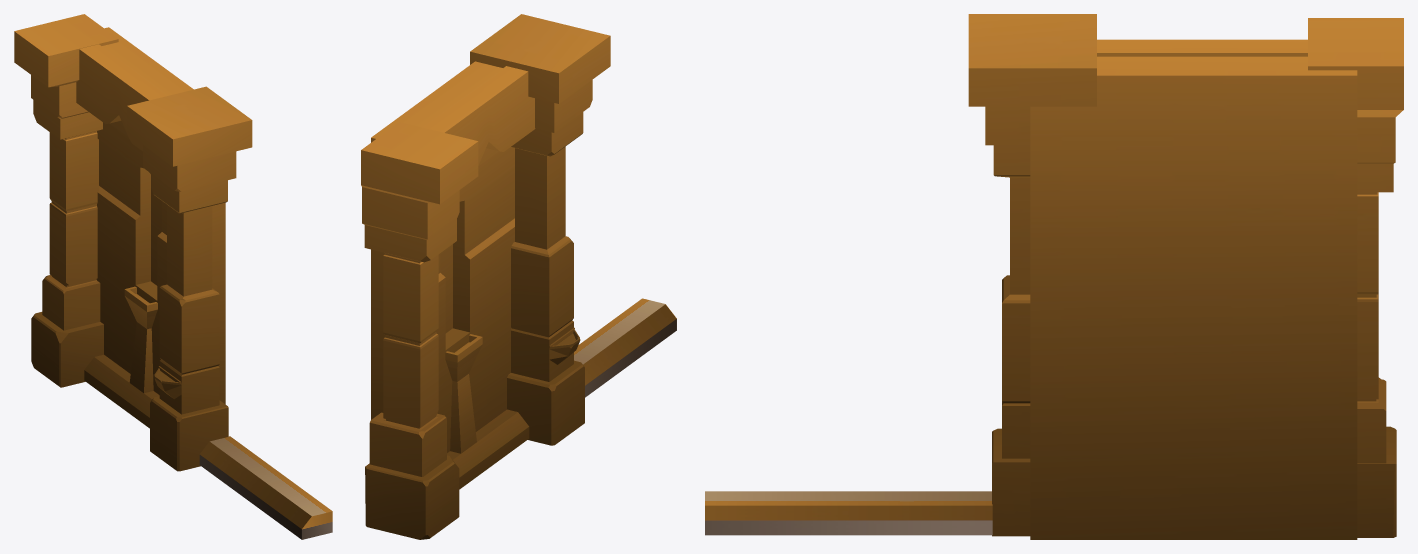
File: InsideTemple.fbx
3 renders of one model, left to right at view 1: azimuth 30°, elevation 25°; view 2: azimuth 150°, elevation 25°; view 3: azimuth 270°, elevation 25°, orthographic. The views are drawn at different scales.
Parts seen in each view (by area): view 1: Cube.005, Cube.006, Cube.001, Cube.003, Cube.002, Cube.004, Cube; view 2: Cube.001, Cube.006, Cube.005, Cube, Cube.002, Cube.003, Cube.004; view 3: Cube.006, Cube.005, Cube.001, Cube.003, Cube, Cube.004.
Boxes of the visible parts, x1,y1,x2,y2 form: Cube.005: [127, 86, 252, 414]; Cube.006: [76, 27, 225, 404]; Cube.001: [14, 14, 118, 330]; Cube.003: [199, 436, 332, 539]; Cube.002: [84, 286, 159, 428]; Cube.004: [150, 396, 228, 471]; Cube: [31, 312, 103, 387]; Cube.001: [361, 122, 478, 476]; Cube.006: [371, 61, 535, 452]; Cube.005: [470, 14, 610, 381]; Cube: [365, 455, 459, 539]; Cube.002: [445, 334, 529, 489]; Cube.003: [574, 298, 676, 397]; Cube.004: [507, 360, 584, 445]; Cube.006: [1030, 39, 1357, 539]; Cube.005: [968, 14, 1096, 458]; Cube.001: [1308, 18, 1403, 463]; Cube.003: [705, 491, 992, 535]; Cube: [1357, 426, 1396, 537]; Cube.004: [992, 428, 1030, 536].
Bounding box in the file's own units: 328 × 1293 × 1711.
